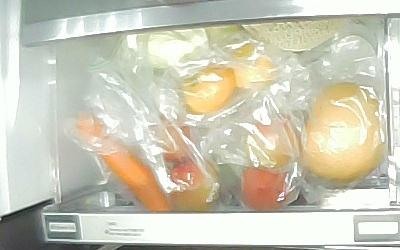cabbage: (120, 27, 211, 67)
carrot_vinyl: (73, 116, 172, 211)
melon: (240, 17, 346, 52)
pear_vinyl: (299, 83, 384, 186)
prune_vinyl: (246, 114, 301, 172), (168, 159, 220, 211), (163, 123, 196, 160)
tangerine_vinyl: (182, 66, 238, 116), (229, 43, 280, 89)
tomato_vinyl: (238, 165, 296, 212)
